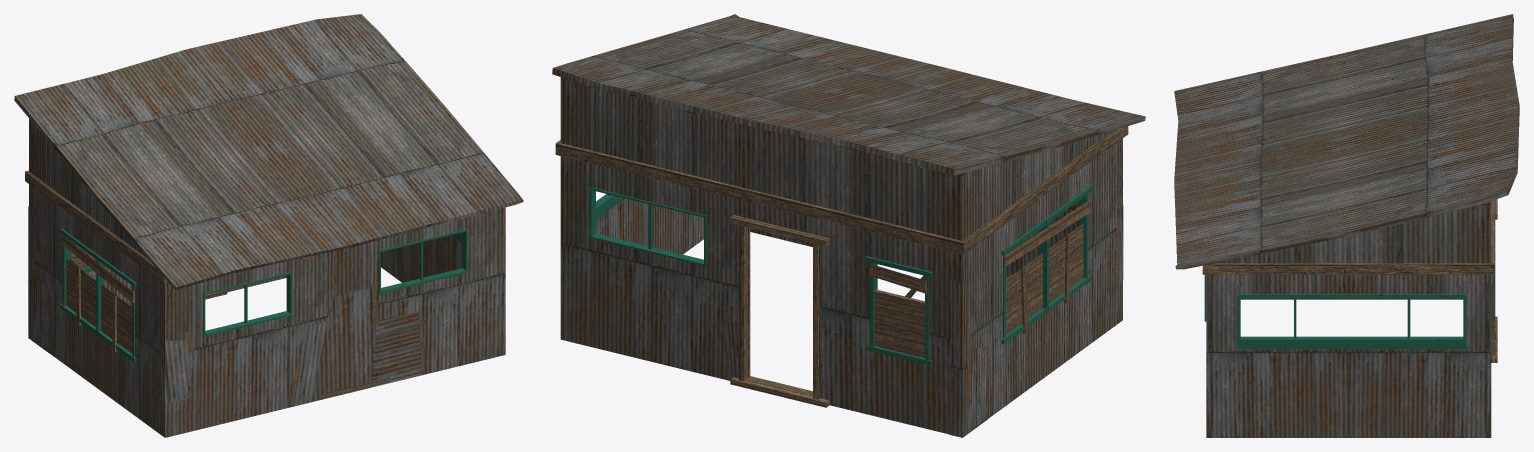
The model's file is BuildingSmall02_2048_lod1.glb.
3 views of the same model, side by side, from view 1: azimuth 30°, elevation 25°; view 2: azimuth 150°, elevation 25°; view 3: azimuth 270°, elevation 25° (orthographic). The views are drawn at different scales.
Visible parts, largest first — view 1: xiutz_building_small_02_lod1; view 2: xiutz_building_small_02_lod1; view 3: xiutz_building_small_02_lod1.
Part boxes in pixels (bbox=[...]): xiutz_building_small_02_lod1: bbox=[14, 14, 523, 437]; xiutz_building_small_02_lod1: bbox=[552, 14, 1145, 437]; xiutz_building_small_02_lod1: bbox=[1174, 14, 1519, 437].
Bounding box in the file's own units: 8.6 × 5.56 × 6.98.
1 material, 1 textured.
